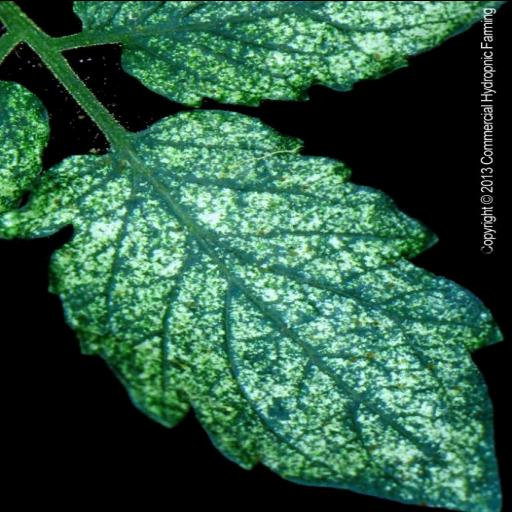Spider Mites: (0, 109, 512, 512), (69, 0, 511, 104)
